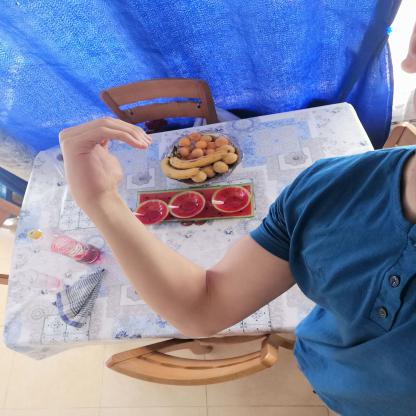HAA: (40, 107, 168, 208)
